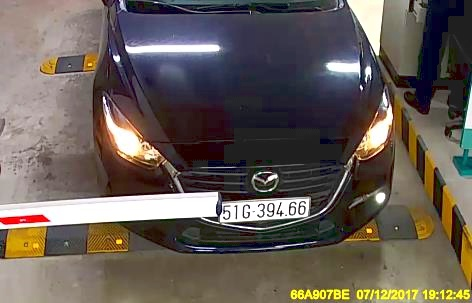plate: (218, 190, 318, 232)
